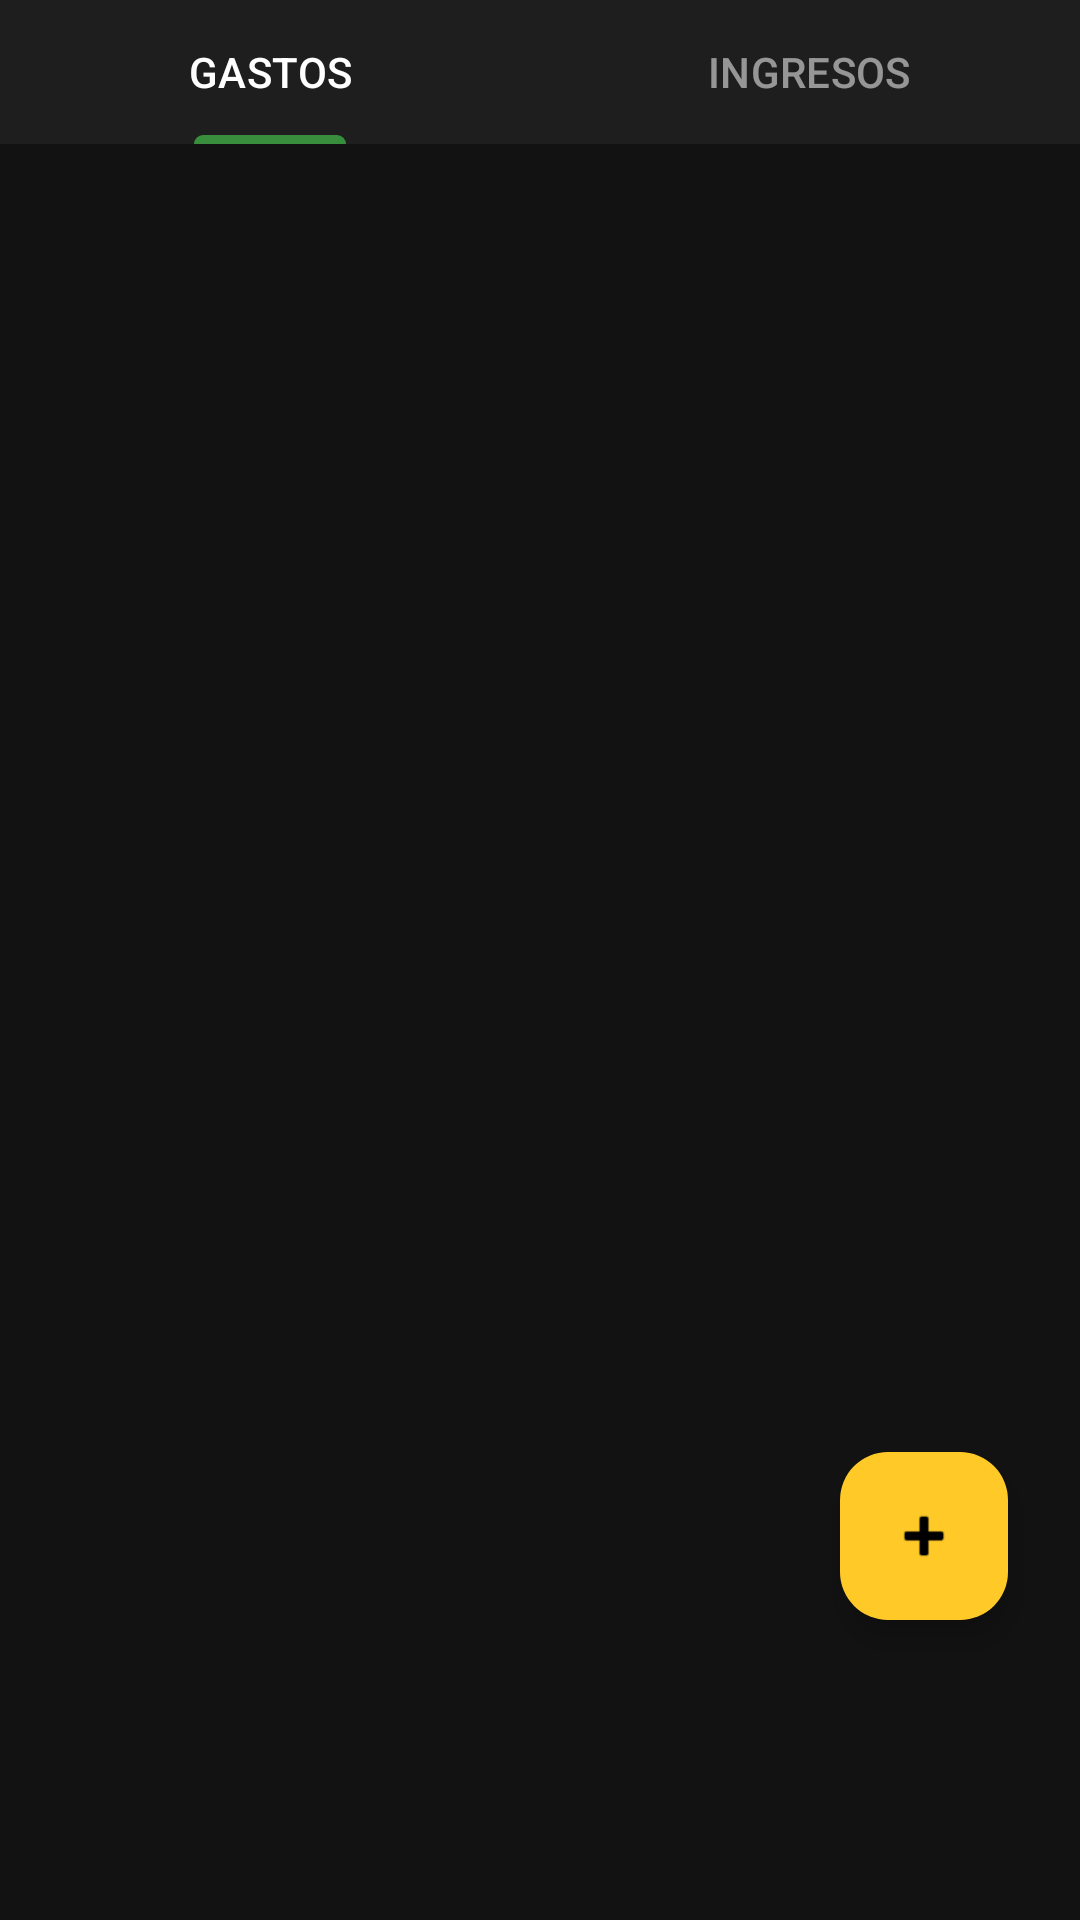

Screen size 1080 × 1920. Icon name, then its center in pixels as point (x, y):
add: point (924, 1536)
